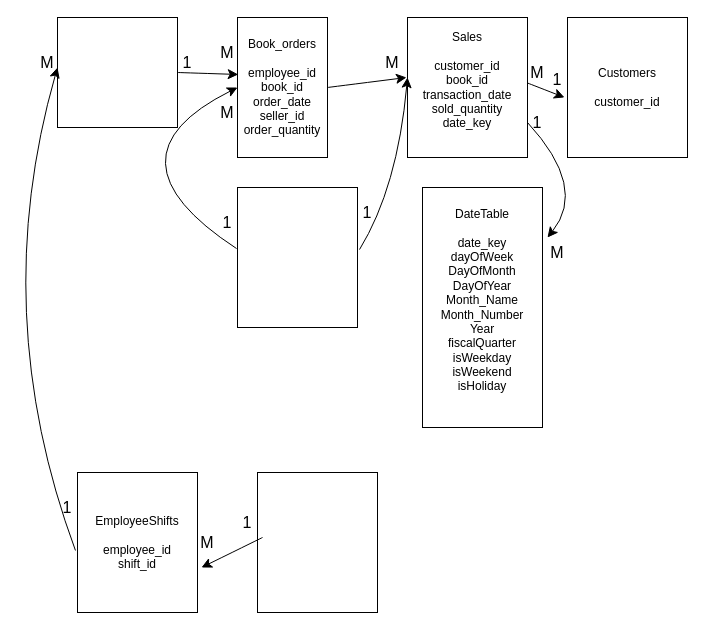
The diagram is 705 pixels wide and 630 high, and some of its shapes have lost their labels. Here are the shapes that lost their labels. From the top down, the centre of each, then its label:
At pixel 117 72: "Employees employee_id first_name last_name".
At pixel 297 257: "Book_Inventory book_id book_title author_lastName author_FirstName".
At pixel 317 542: "ShiftTimes shift_id weekday shift_start shift_end isFullDay".
